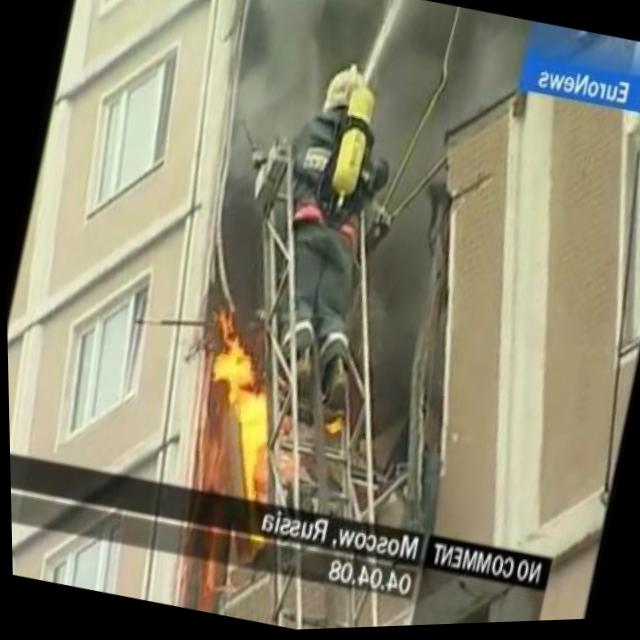fire: (171, 304, 300, 508), (319, 412, 344, 441)
